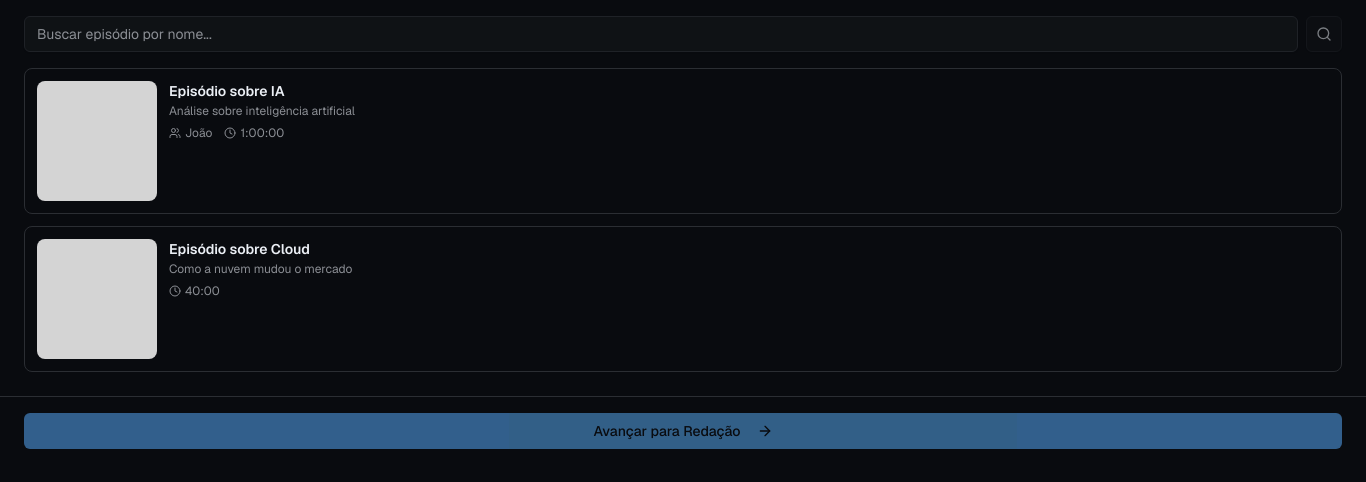
it: NewsEpisodesPhase › performs text search on Enter key
Step 1. Type "Kubernetes" into the field with test id "episode-search-input" → (661, 34), box left=24, top=16, right=1298, bottom=52
Then press Enter
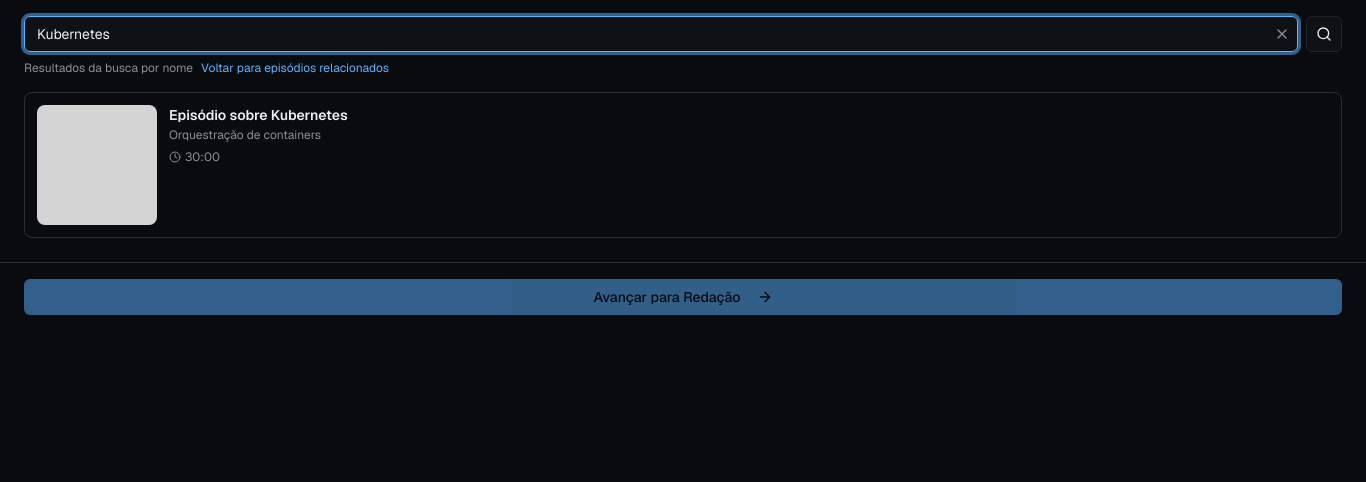
Expected: the button with test id "episode-card-ep-3" is shown, left=24, top=92, right=1342, bottom=238
